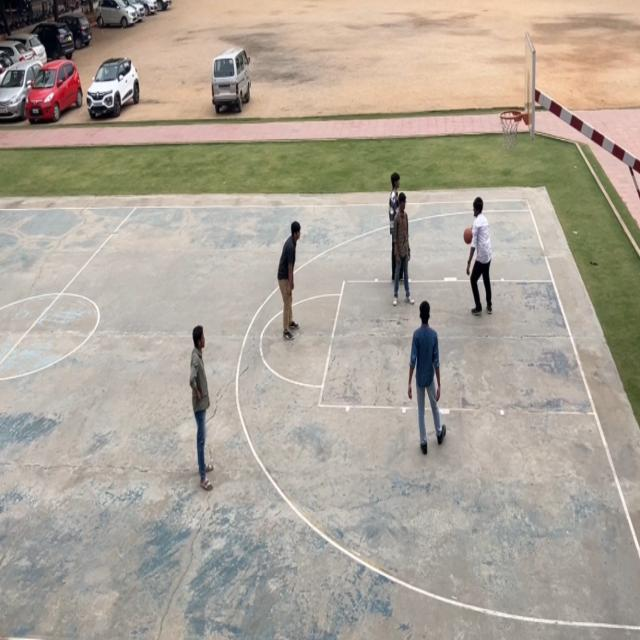basketball: (462, 224, 475, 248)
hoop: (497, 109, 522, 151)
